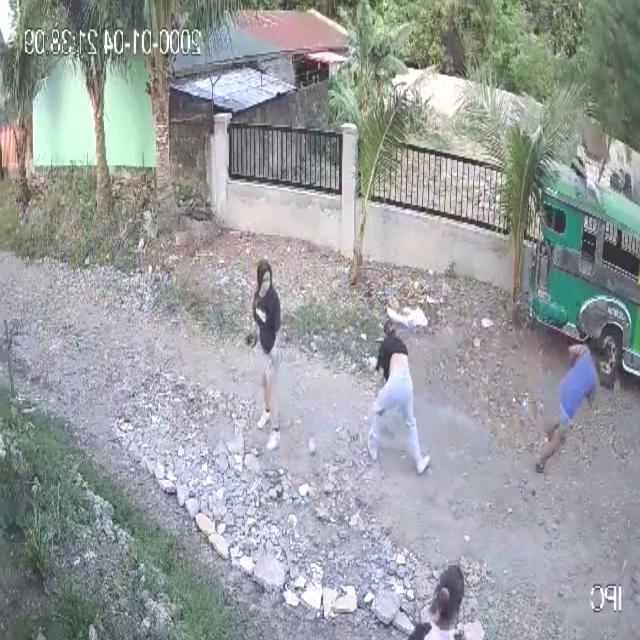running: (521, 327, 600, 479)
walking: (249, 260, 290, 460), (412, 563, 473, 640)
